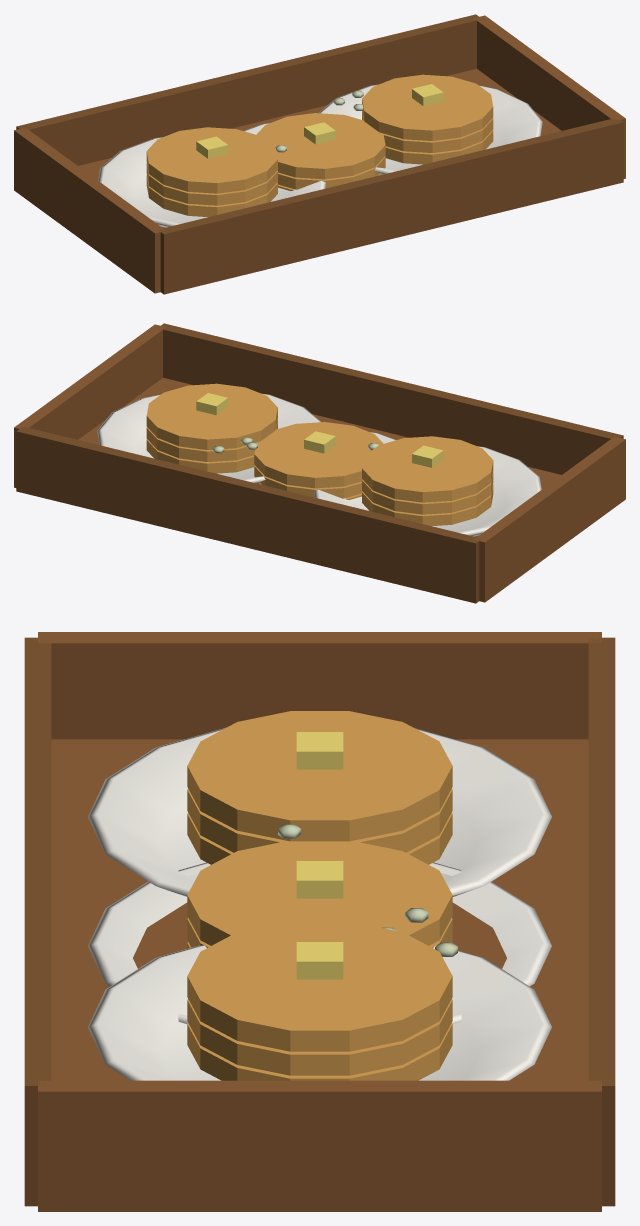
File: Dessert_Pancake.fbx
3 views of the same model, one above another, from view 1: azimuth 30°, elevation 25°; view 2: azimuth 150°, elevation 25°; view 3: azimuth 270°, elevation 25° (orthographic). The views are drawn at different scales.
Parts seen in each view (by area): view 1: Dessert_Pancake__Stack, Dessert_Pancake; view 2: Dessert_Pancake__Stack, Dessert_Pancake; view 3: Dessert_Pancake__Stack, Dessert_Pancake, Dessert_Pancake__Rotten.
Part boxes in pixels (left/top/right/bottom): Dessert_Pancake__Stack: left=14, top=14, right=625, bottom=294; Dessert_Pancake: left=244, top=113, right=385, bottom=190; Dessert_Pancake__Stack: left=14, top=323, right=625, bottom=603; Dessert_Pancake: left=254, top=422, right=395, bottom=499; Dessert_Pancake__Stack: left=24, top=632, right=615, bottom=1211; Dessert_Pancake: left=88, top=841, right=551, bottom=1023; Dessert_Pancake__Rotten: left=278, top=824, right=457, bottom=956.
Bounding box in the file's own units: 0.328 × 0.045 × 0.178.
